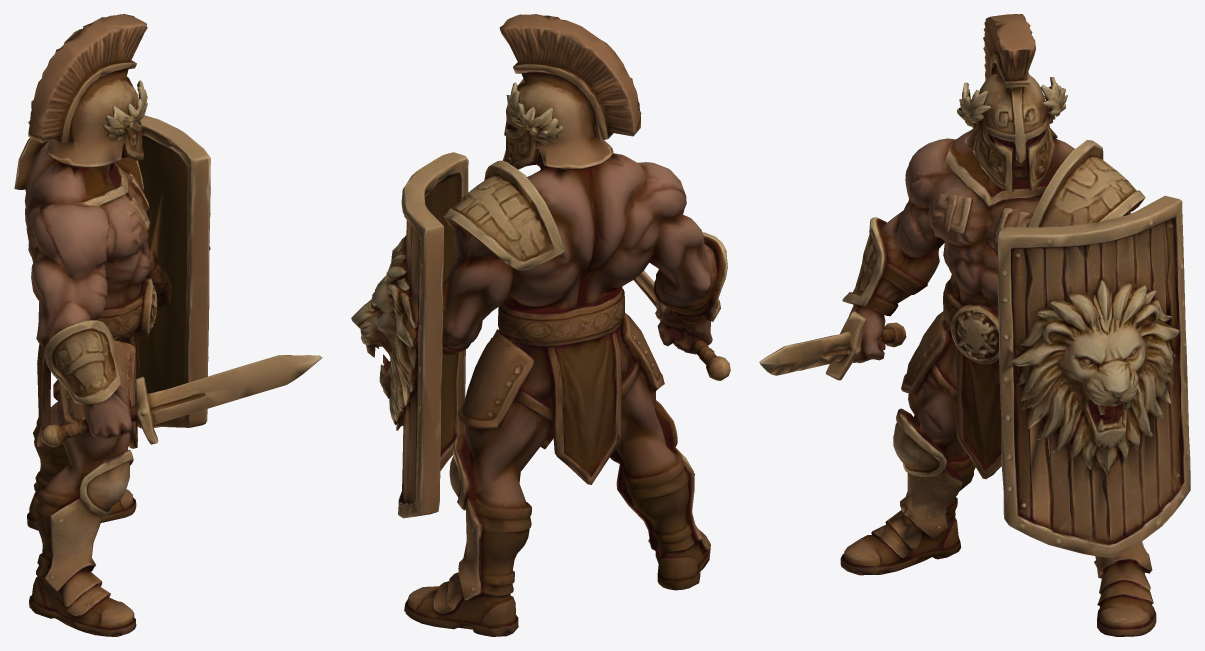
File: bronzeChampion.glb
3 views of the same model, side by side, from view 1: azimuth 30°, elevation 25°; view 2: azimuth 150°, elevation 25°; view 3: azimuth 270°, elevation 25° (orthographic). The views are drawn at different scales.
Parts seen in each view (by area): view 1: tripo_node_56e11662-1805-4bbf-b2a5-1f2c6f6f382d; view 2: tripo_node_56e11662-1805-4bbf-b2a5-1f2c6f6f382d; view 3: tripo_node_56e11662-1805-4bbf-b2a5-1f2c6f6f382d.
Boxes of the visible parts, x1,y1,x2,y2 form: tripo_node_56e11662-1805-4bbf-b2a5-1f2c6f6f382d: (14,14,322,636); tripo_node_56e11662-1805-4bbf-b2a5-1f2c6f6f382d: (351,14,730,636); tripo_node_56e11662-1805-4bbf-b2a5-1f2c6f6f382d: (759,14,1190,636).
Bounding box in the file's own units: 0.4952 × 0.9999 × 0.6788.
1 material, 1 textured.
